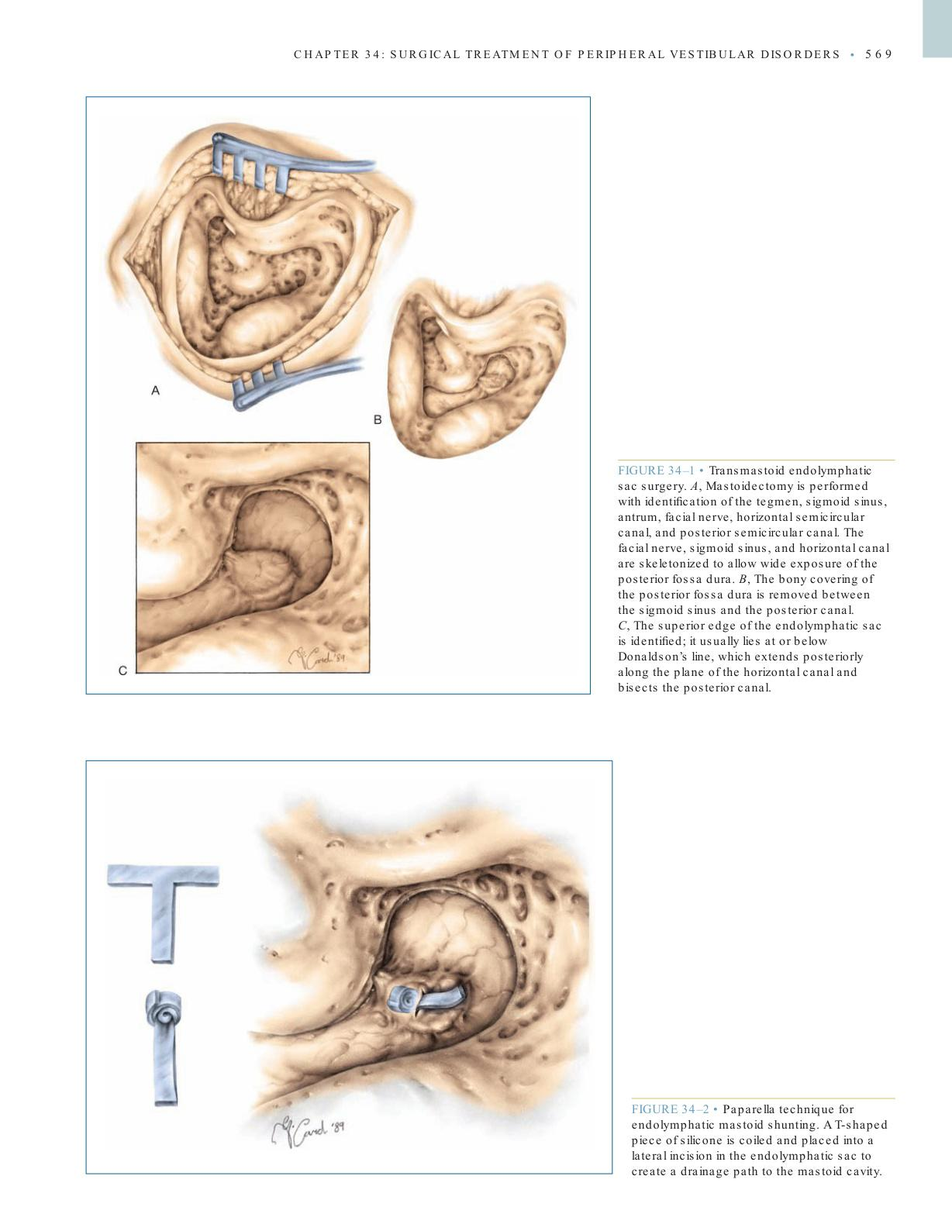caption: (616, 463, 890, 696), (629, 1101, 889, 1181), (149, 384, 162, 397), (117, 664, 129, 677), (373, 413, 383, 426)
header: (293, 49, 840, 60)
image: (93, 767, 604, 1167), (100, 114, 418, 416), (136, 441, 370, 674), (385, 274, 575, 468)
